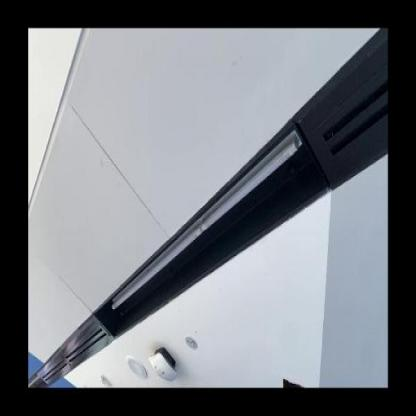light_off: (105, 117, 305, 315)
